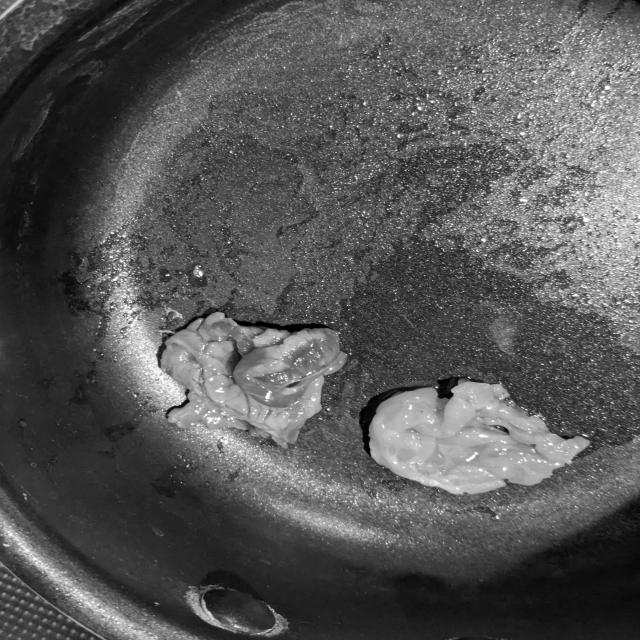NG undercooked beef,: (360, 373, 603, 507), (145, 302, 358, 453)
